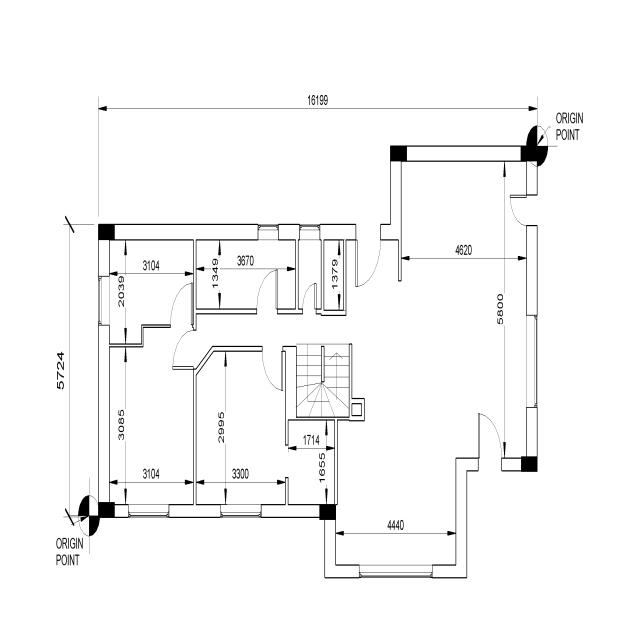Column: (520, 144, 540, 163), (390, 144, 408, 163), (320, 504, 336, 520), (521, 457, 537, 472), (98, 225, 115, 239), (99, 503, 114, 518)
Door: (354, 221, 382, 289), (477, 411, 503, 474), (170, 329, 197, 372), (170, 280, 194, 328), (261, 345, 284, 392), (256, 268, 278, 316), (509, 193, 538, 227), (301, 280, 318, 318)
Staircase: (296, 341, 349, 420)
Window: (524, 311, 540, 412), (358, 563, 434, 580), (96, 272, 111, 328), (128, 501, 170, 520), (220, 503, 262, 520), (297, 220, 322, 245), (256, 221, 280, 244)
